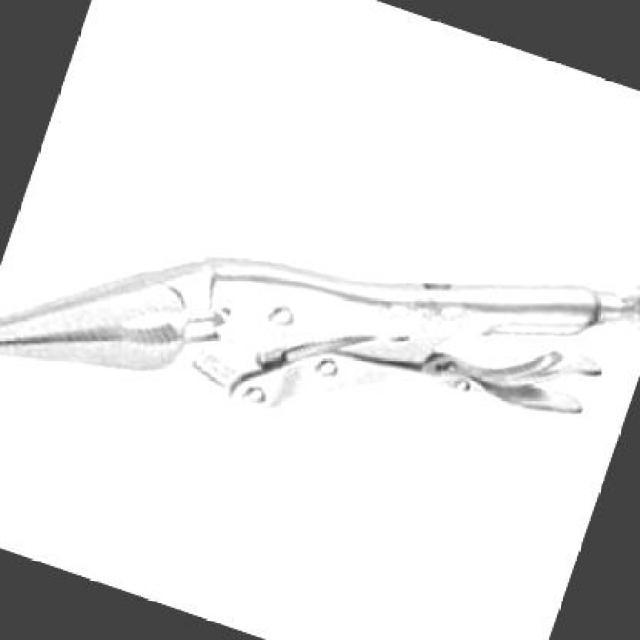pliers: (0, 83, 638, 578)
